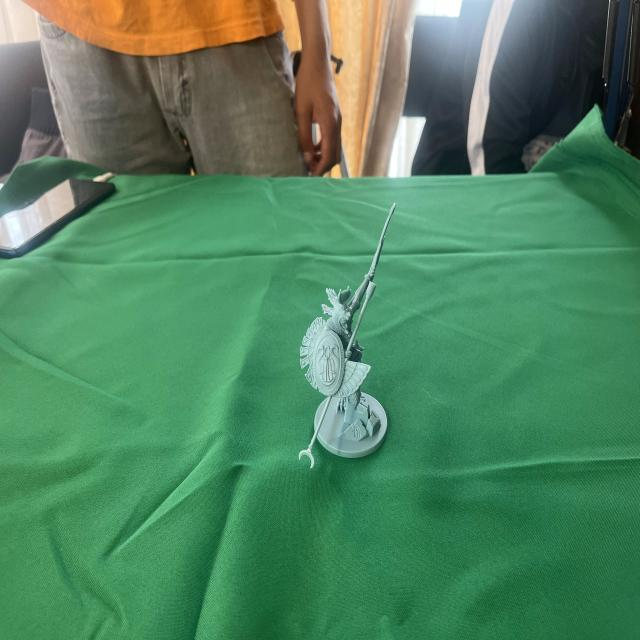isis: (296, 192, 407, 484)
